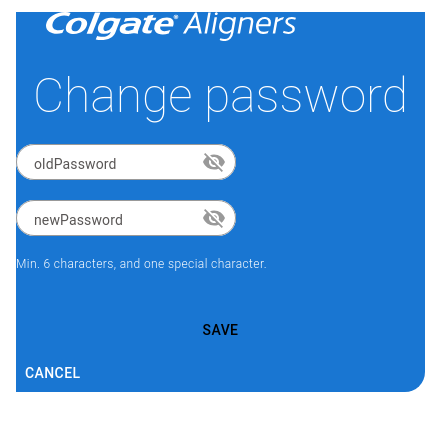
Test: Page ForgotPassword › Should display error when field is empty
The image size is (442, 448).
Click the button "Save" at [220, 330], box [187,312,254,348]
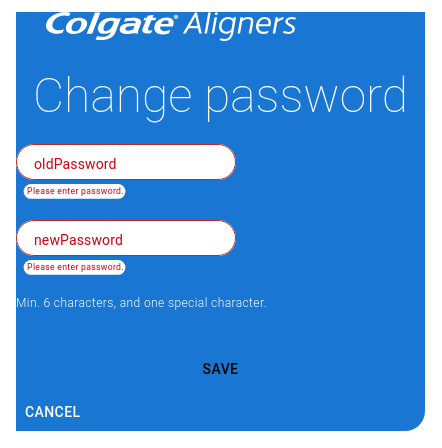
Check: the text "Please enter password." is shown 2 times, box [24,184,126,198]; [24,260,126,274]
